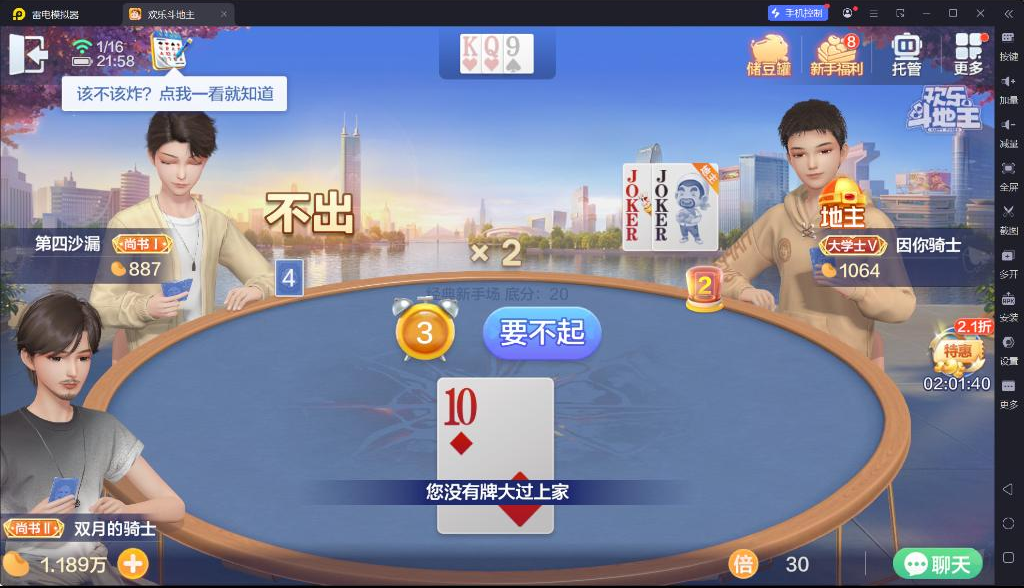JOKER: (625, 167, 641, 216)
K: (461, 34, 479, 58)
Q: (482, 34, 500, 58)
joker: (652, 166, 670, 216)
nine: (505, 35, 521, 57)
ten: (442, 386, 478, 428)
